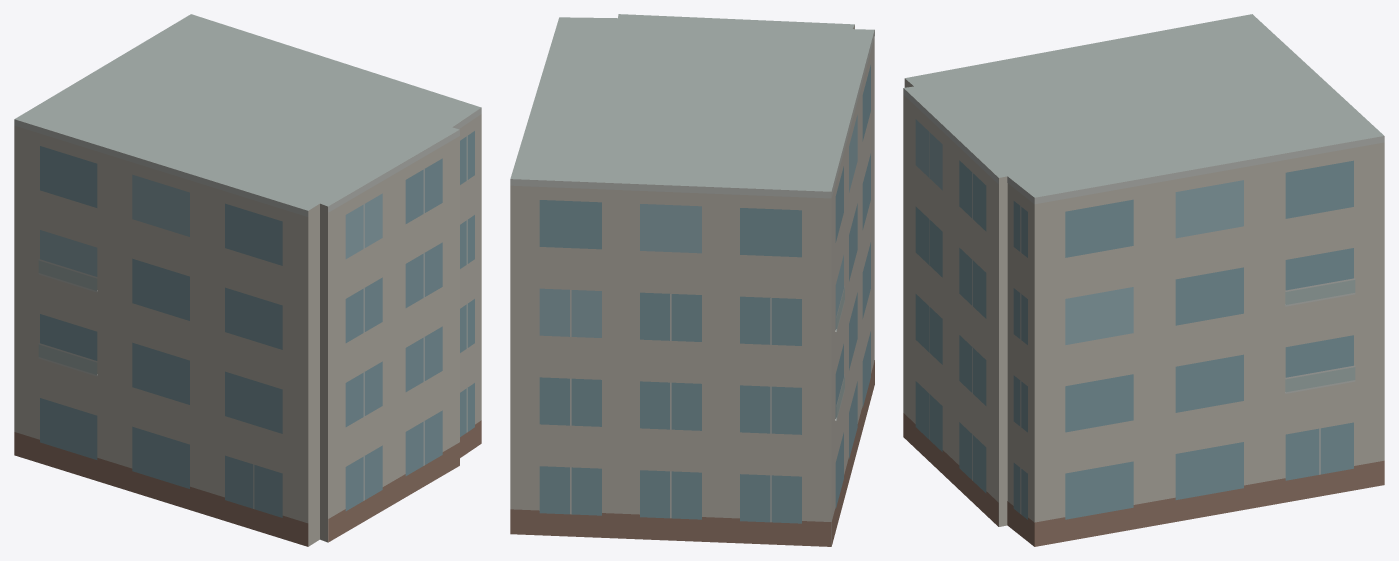
File: survey-upis-32750247.glb
The picture shows the model from 3 angles, left to right: view 1: azimuth 30°, elevation 25°; view 2: azimuth 150°, elevation 25°; view 3: azimuth 270°, elevation 25°; orthographic projection. The views are drawn at different scales.
Parts seen in each view (by area): view 1: survey-upis-32750247.tmp; view 2: survey-upis-32750247.tmp; view 3: survey-upis-32750247.tmp.
Boxes of the visible parts, x1,y1,x2,y2 form: survey-upis-32750247.tmp: (14,14,481,546); survey-upis-32750247.tmp: (510,14,874,546); survey-upis-32750247.tmp: (903,14,1384,546).
Size of the model in its own units: 14.68 by 13 by 16.25.
